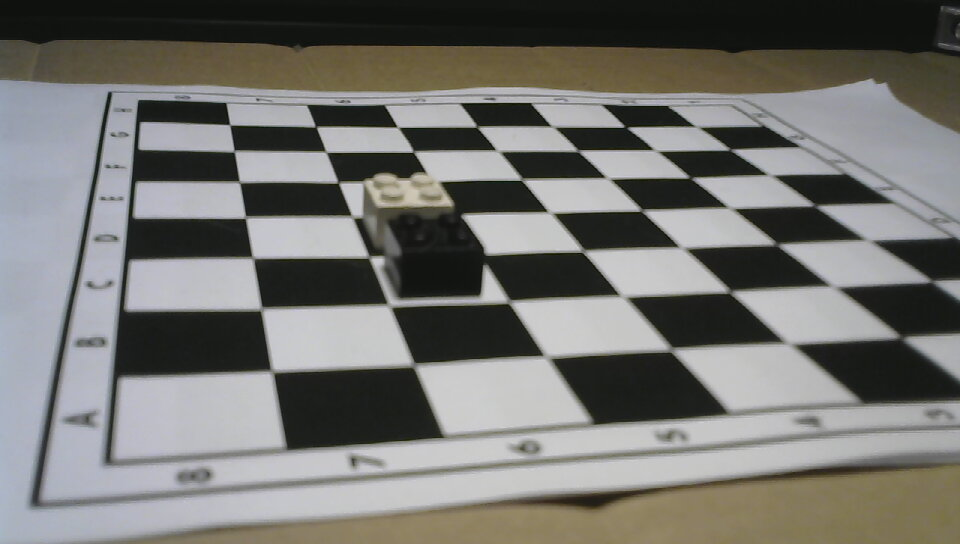wp: (357, 170, 467, 214)
